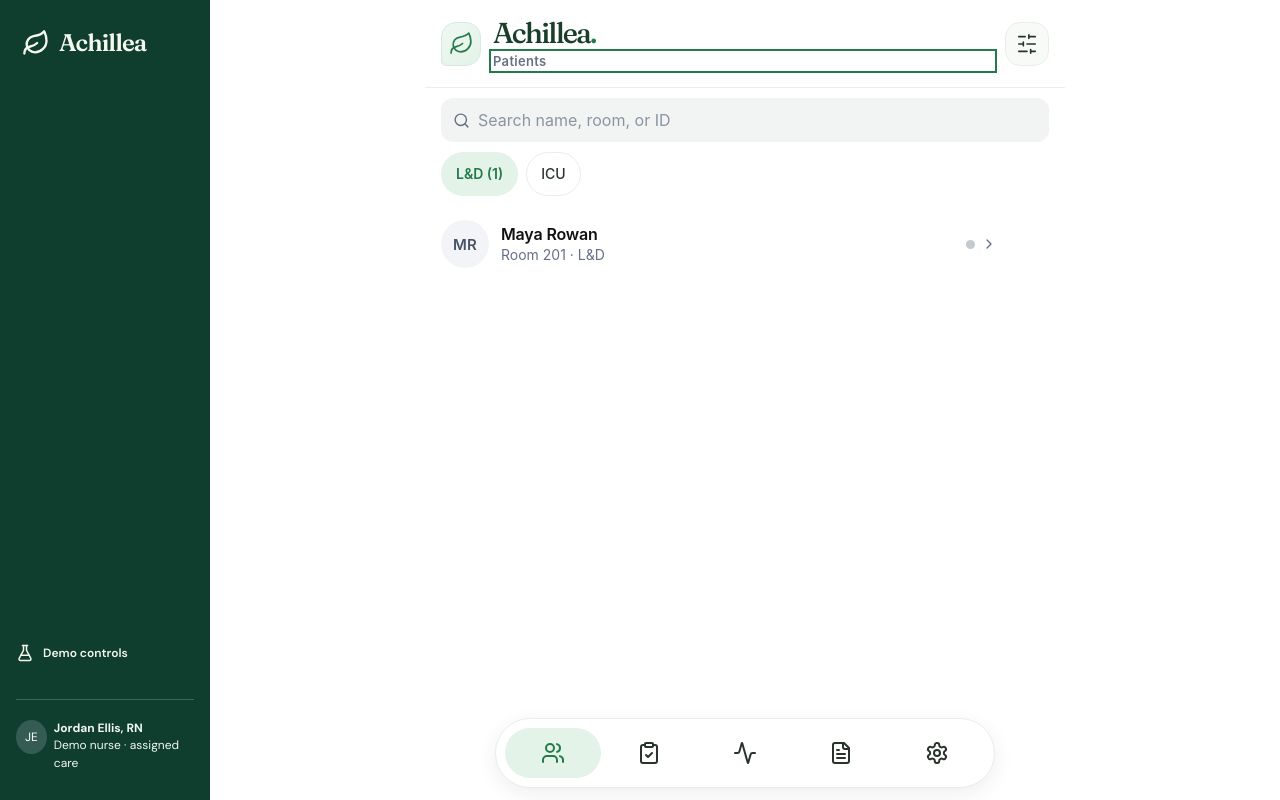
Test: Clinical information hierarchy › retains a bedside narrative through navigation and restores it only for that patient
Earlier steps of the test are not shown.
Click the link named "Open patient overview" at (465, 244), box [441,206,997,282]
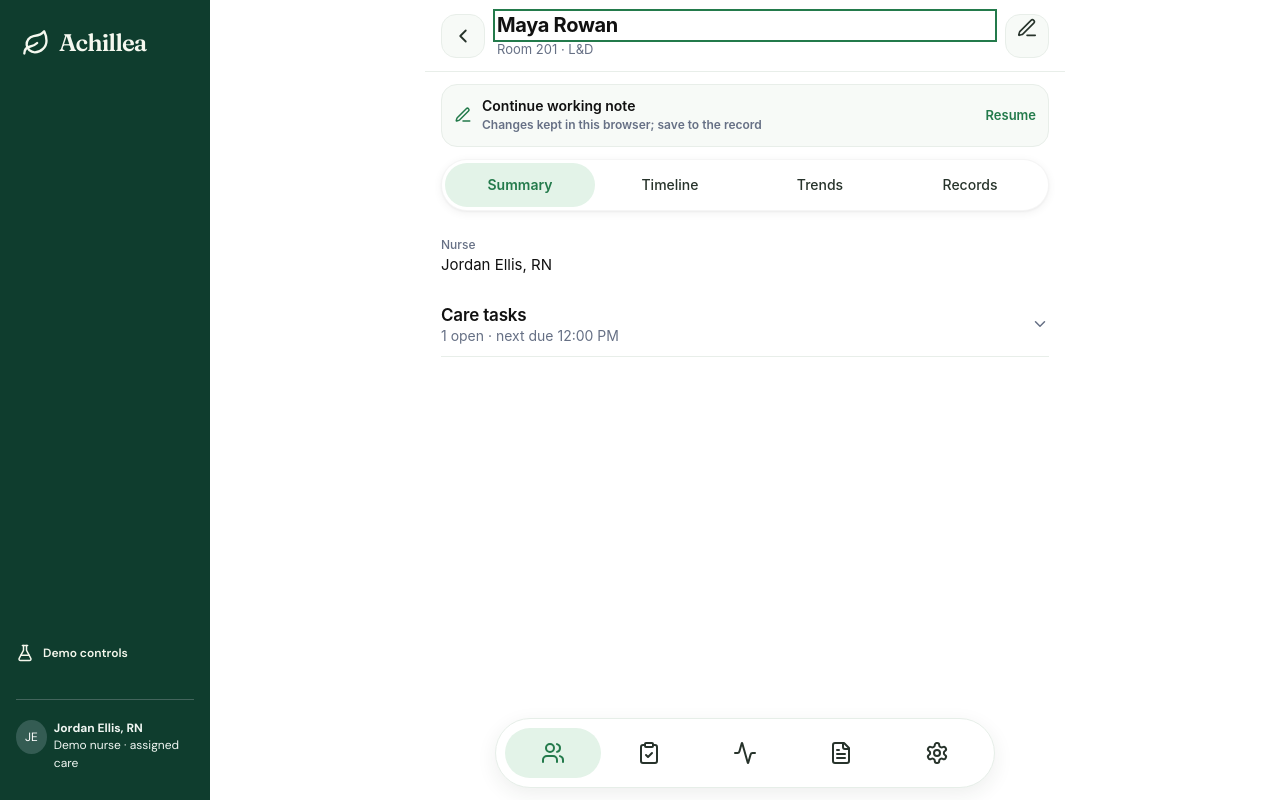
Click the button named "Document care" at (1027, 36), box [1005,14,1049,58]
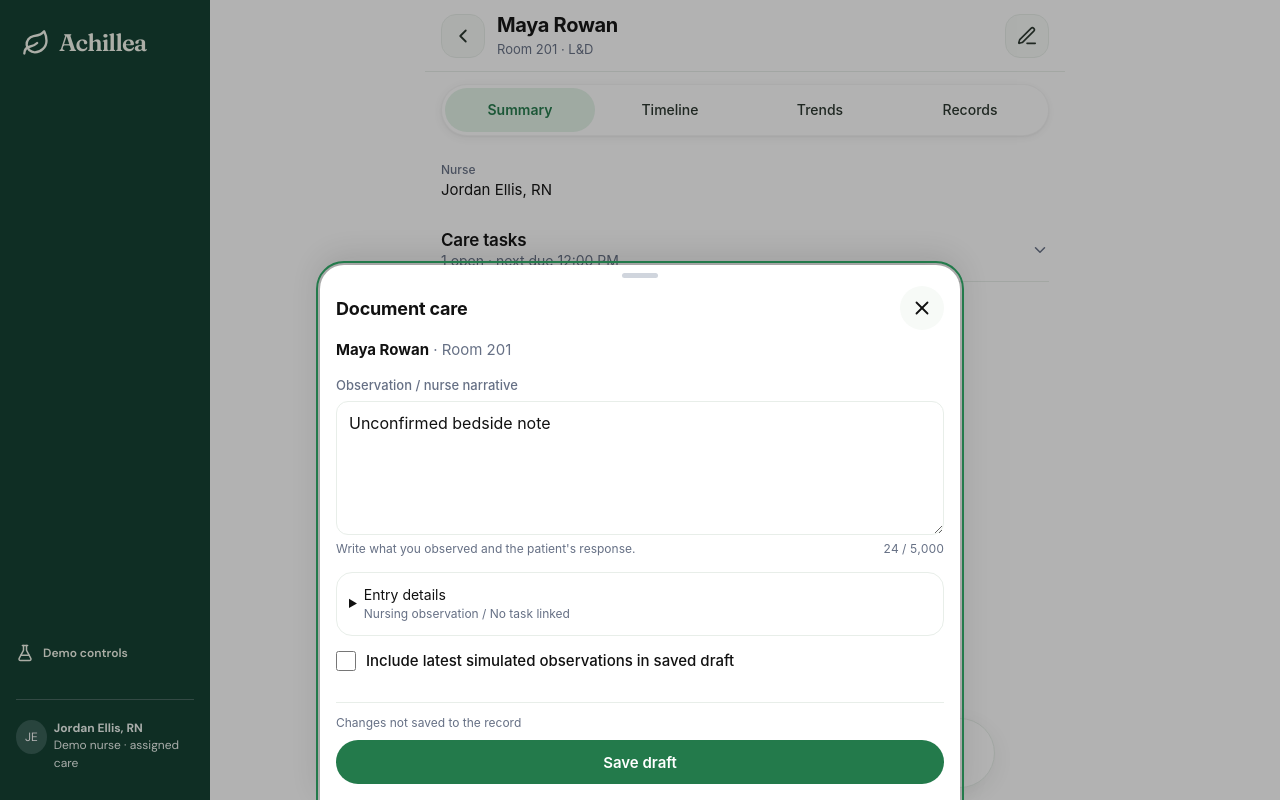
Result: the text box with placeholder "Enter your synthetic bedside observation" holds "Unconfirmed bedside note" at [336,401,944,535]
